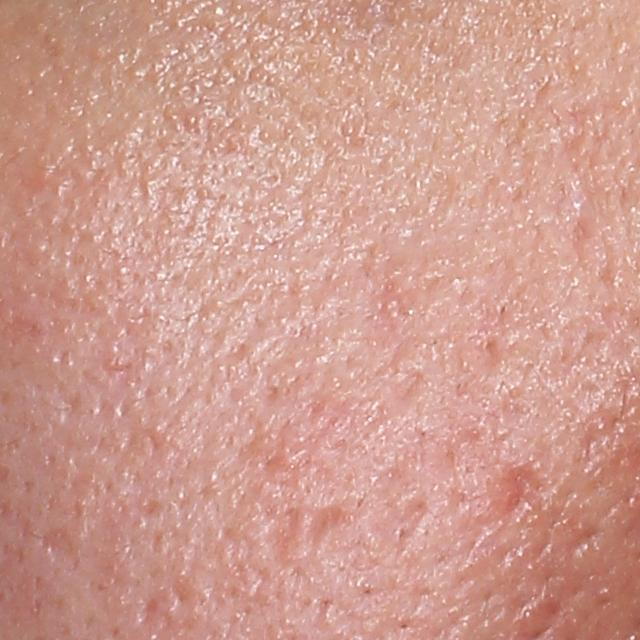atrophic_scar: (368, 495, 430, 550), (500, 462, 549, 523), (311, 503, 354, 559), (39, 525, 78, 569)
